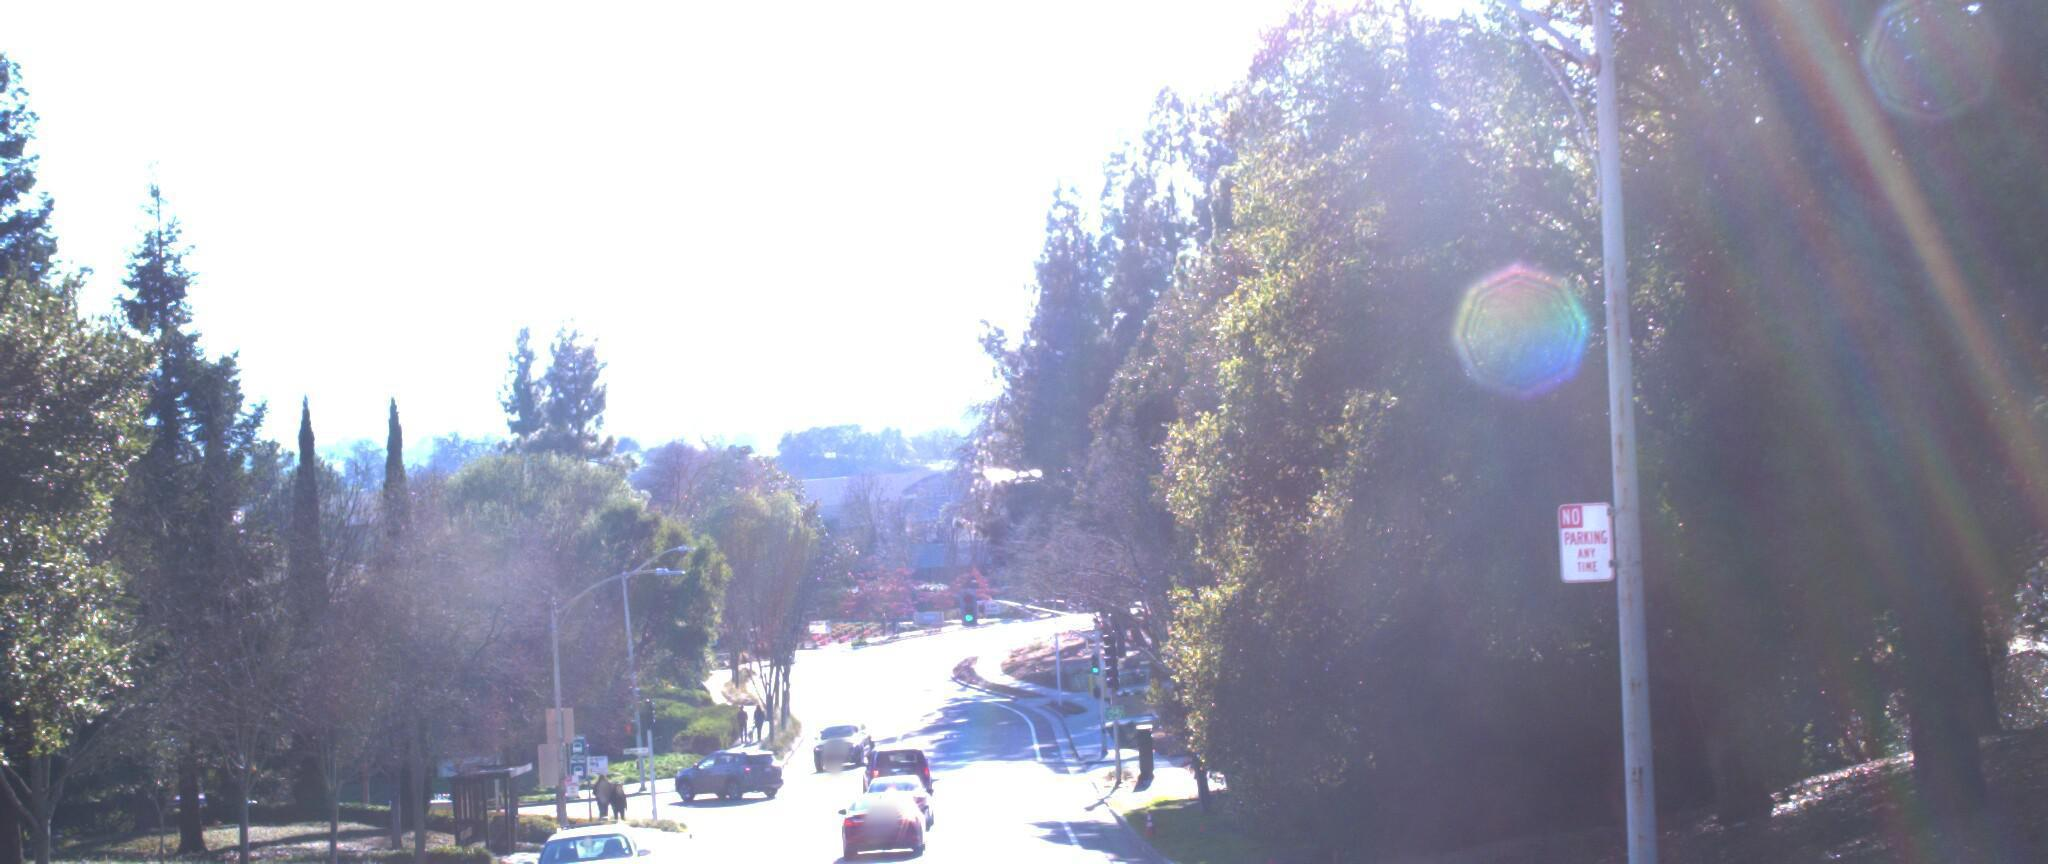car: (505, 797, 660, 864)
